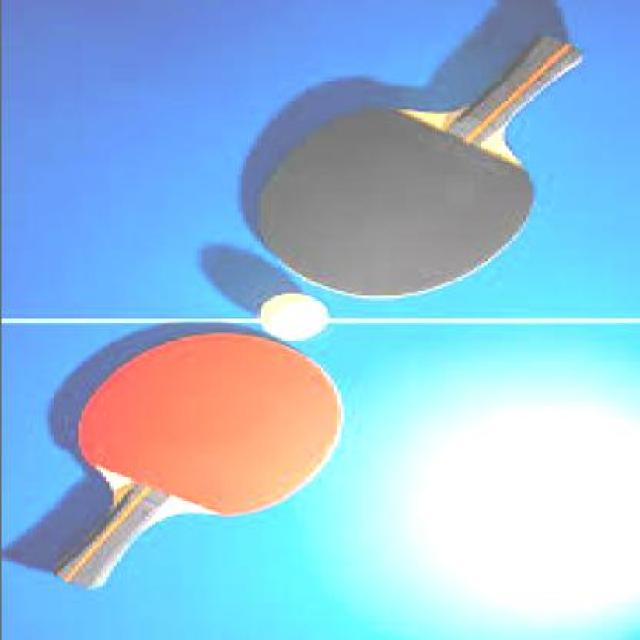table_tennis_racket: (237, 5, 586, 303), (51, 322, 345, 592)
